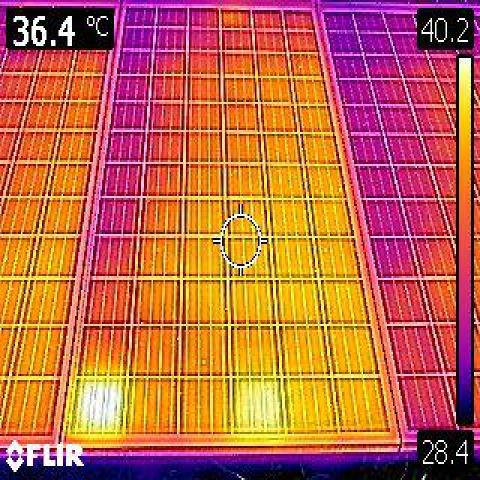fault: (74, 378, 123, 436)
